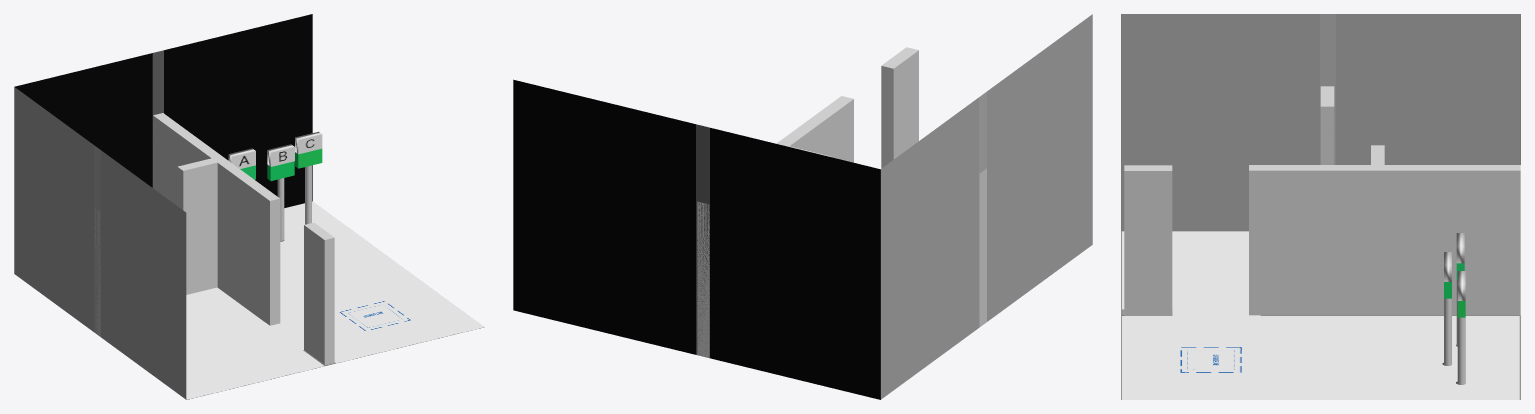
The model's file is Ground_pic.dae.
3 renders of one model, left to right at view 1: azimuth 30°, elevation 25°; view 2: azimuth 150°, elevation 25°; view 3: azimuth 270°, elevation 25°, orthographic. The views are drawn at different scales.
Visible parts, largest first — view 1: 平面, 立方体.001, 立方体.002, 立方体, 立方体.003, 立方体.006, 立方体.005; view 2: 平面, 立方体.001, 立方体, 立方体.003; view 3: 平面, 立方体.001, 立方体, 立方体.003, 柱体, 柱体.002.
Part boxes in pixels (x1,y1,x2,y2): 平面: (14,14,484,399); 立方体.001: (153,113,280,325); 立方体.002: (177,158,218,294); 立方体: (304,222,334,364); 立方体.003: (94,208,100,336); 立方体.006: (295,148,322,168); 立方体.005: (267,161,294,180); 平面: (513,14,1092,399); 立方体.001: (697,96,853,358); 立方体: (881,47,918,168); 立方体.003: (979,168,986,326); 平面: (1121,14,1520,399); 立方体.001: (1249,165,1520,315); 立方体: (1124,165,1172,315); 立方体.003: (1320,86,1334,164); 柱体: (1457,317,1465,384); 柱体.002: (1444,298,1451,365).
Bounding box in the file's own units: 5 × 5 × 3.
10 materials, 4 textured.
